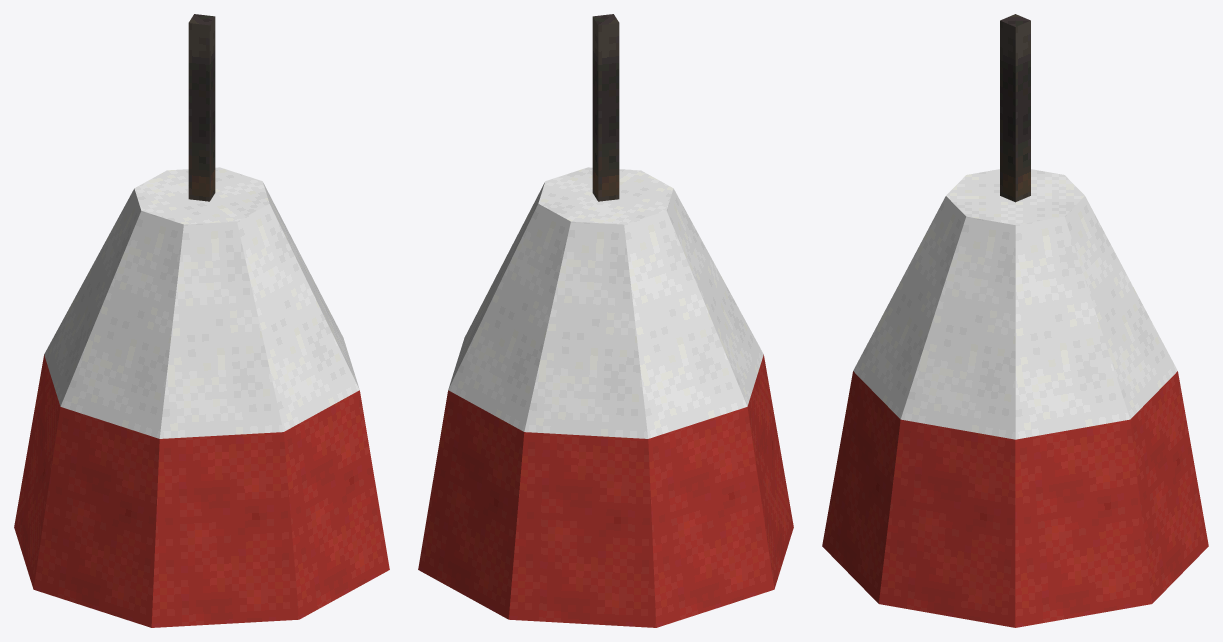
Rendered from boya.obj.
The picture shows the model from 3 angles, left to right: view 1: azimuth 30°, elevation 25°; view 2: azimuth 150°, elevation 25°; view 3: azimuth 270°, elevation 25°; orthographic projection.
Visible parts, largest first — view 1: boya; view 2: boya; view 3: boya.
Boxes of the visible parts, <box> form: boya: <box>14,14,389,627</box>; boya: <box>418,14,793,627</box>; boya: <box>822,14,1208,627</box>.
Bounding box in the file's own units: 1 × 1.5 × 1.
Materials: 3 (3 with a texture image).
